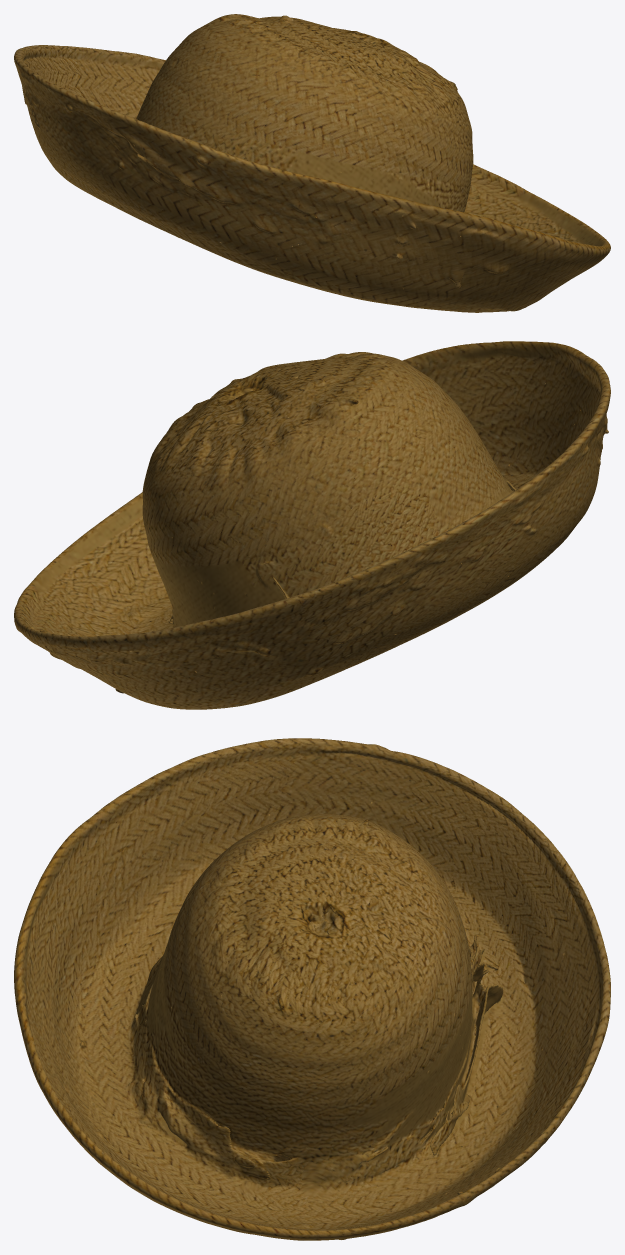
Rendered from sombrero.glb.
3 renders of one model, top to bottom at view 1: azimuth 30°, elevation 25°; view 2: azimuth 150°, elevation 25°; view 3: azimuth 270°, elevation 25°, orthographic. The views are drawn at different scales.
Parts seen in each view (by area): view 1: tripo_node_444a1154-cfae-4465-968e-c8ca92a9d982; view 2: tripo_node_444a1154-cfae-4465-968e-c8ca92a9d982; view 3: tripo_node_444a1154-cfae-4465-968e-c8ca92a9d982.
Boxes of the visible parts, <box> form: tripo_node_444a1154-cfae-4465-968e-c8ca92a9d982: <box>14,14,610,312</box>; tripo_node_444a1154-cfae-4465-968e-c8ca92a9d982: <box>14,341,610,709</box>; tripo_node_444a1154-cfae-4465-968e-c8ca92a9d982: <box>14,738,610,1240</box>.
Size of the model in its own units: 0.9581 by 0.5425 by 0.9602.
Materials: 1 (1 with a texture image).
